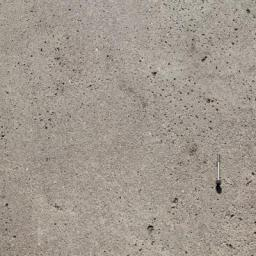FOD: (214, 151, 227, 196)
